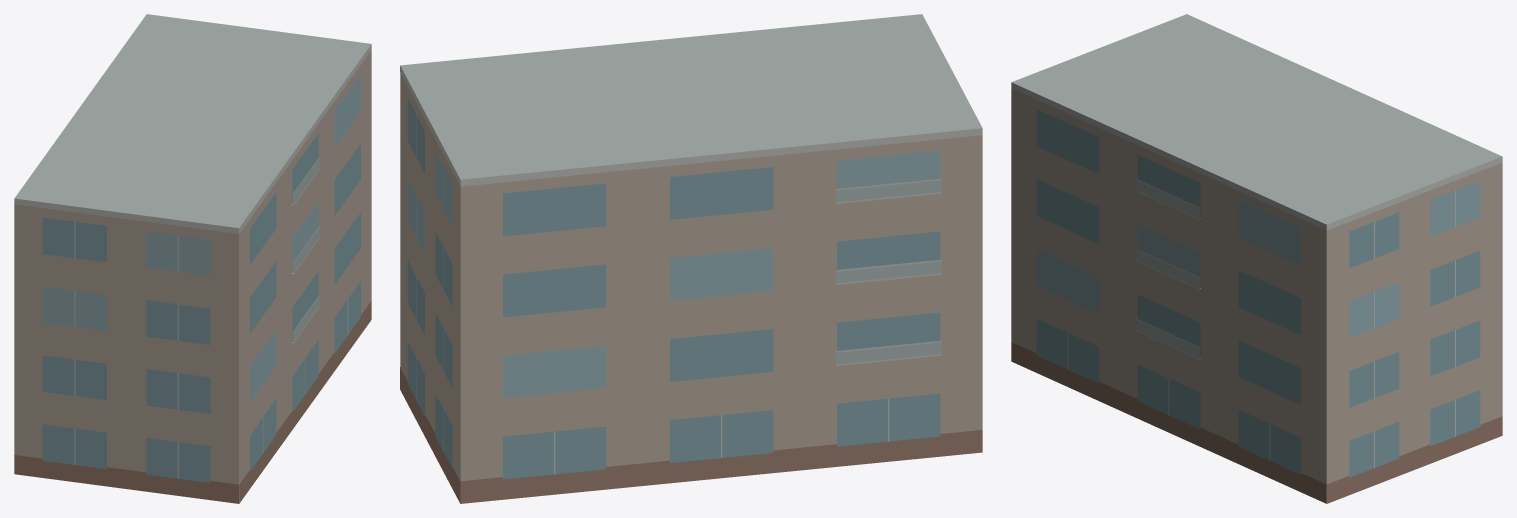
The model's file is survey-upis-32710955.glb.
3 renders of one model, left to right at view 1: azimuth 30°, elevation 25°; view 2: azimuth 150°, elevation 25°; view 3: azimuth 270°, elevation 25°, orthographic. The views are drawn at different scales.
Visible parts, largest first — view 1: survey-upis-32710955.tmp; view 2: survey-upis-32710955.tmp; view 3: survey-upis-32710955.tmp.
Boxes of the visible parts, <box> form: survey-upis-32710955.tmp: <box>14,14,371,503</box>; survey-upis-32710955.tmp: <box>400,14,982,503</box>; survey-upis-32710955.tmp: <box>1011,14,1502,503</box>.
Bounding box in the file's own units: 18.62 × 11.5 × 18.35.
